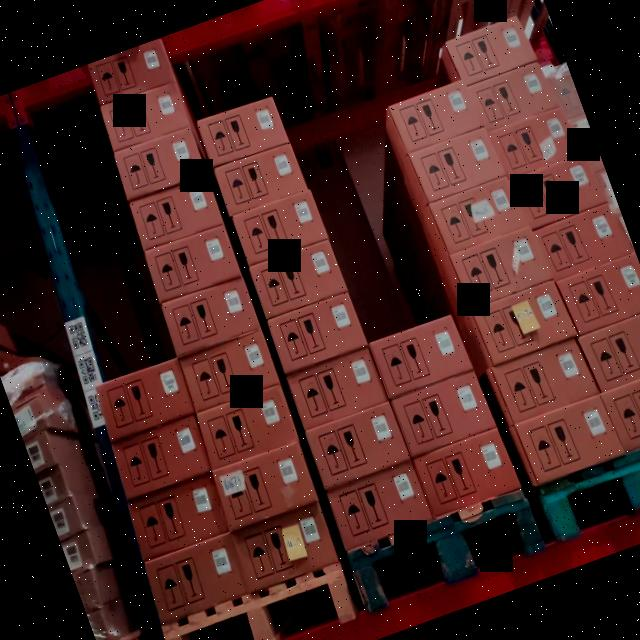box: (388, 366, 502, 461), (514, 394, 622, 484), (414, 428, 520, 518), (144, 534, 250, 623), (234, 503, 341, 590), (195, 385, 303, 471), (370, 312, 474, 400), (212, 443, 318, 529), (306, 402, 410, 489), (328, 462, 433, 548), (128, 474, 232, 560), (493, 339, 596, 424), (94, 356, 198, 440), (474, 282, 576, 367), (288, 348, 390, 432), (450, 226, 552, 310), (161, 275, 264, 358), (180, 328, 282, 411), (144, 222, 245, 304), (268, 292, 369, 374), (113, 416, 214, 498), (250, 238, 349, 320), (126, 174, 228, 252), (430, 176, 528, 256), (232, 188, 330, 266), (410, 125, 504, 203), (536, 202, 630, 280), (512, 152, 605, 230), (390, 78, 484, 154), (556, 253, 640, 338), (112, 129, 206, 203), (215, 142, 309, 216), (491, 104, 581, 180), (100, 80, 192, 154), (198, 96, 290, 169), (447, 14, 538, 86), (470, 58, 558, 130), (88, 38, 178, 106), (581, 311, 640, 390), (604, 366, 640, 451), (12, 396, 54, 439), (550, 68, 585, 119), (2, 367, 48, 405), (48, 497, 87, 541), (24, 430, 60, 472), (61, 532, 98, 572), (572, 114, 602, 162), (37, 467, 72, 508), (73, 570, 102, 610)
